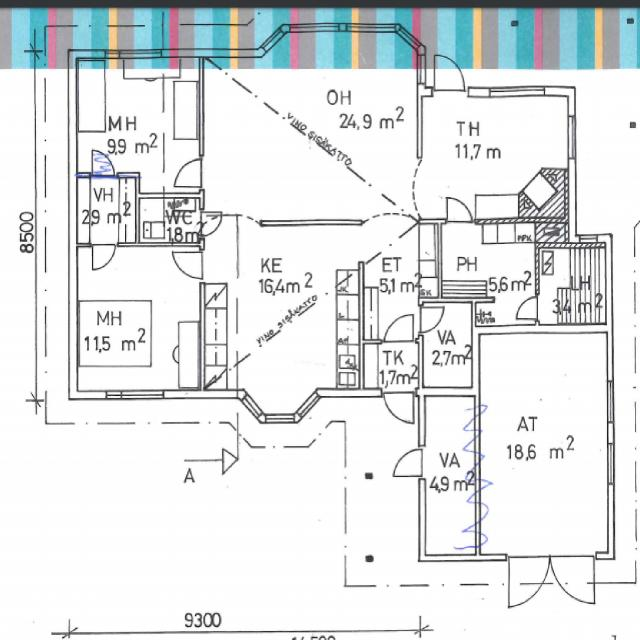door: (551, 554, 594, 608), (509, 554, 551, 608), (434, 54, 464, 96), (383, 388, 413, 429), (384, 308, 412, 344), (173, 158, 204, 188), (393, 448, 425, 477), (447, 192, 472, 223), (174, 252, 203, 278), (418, 306, 446, 332), (93, 242, 116, 272), (200, 212, 225, 235), (515, 297, 539, 319)
